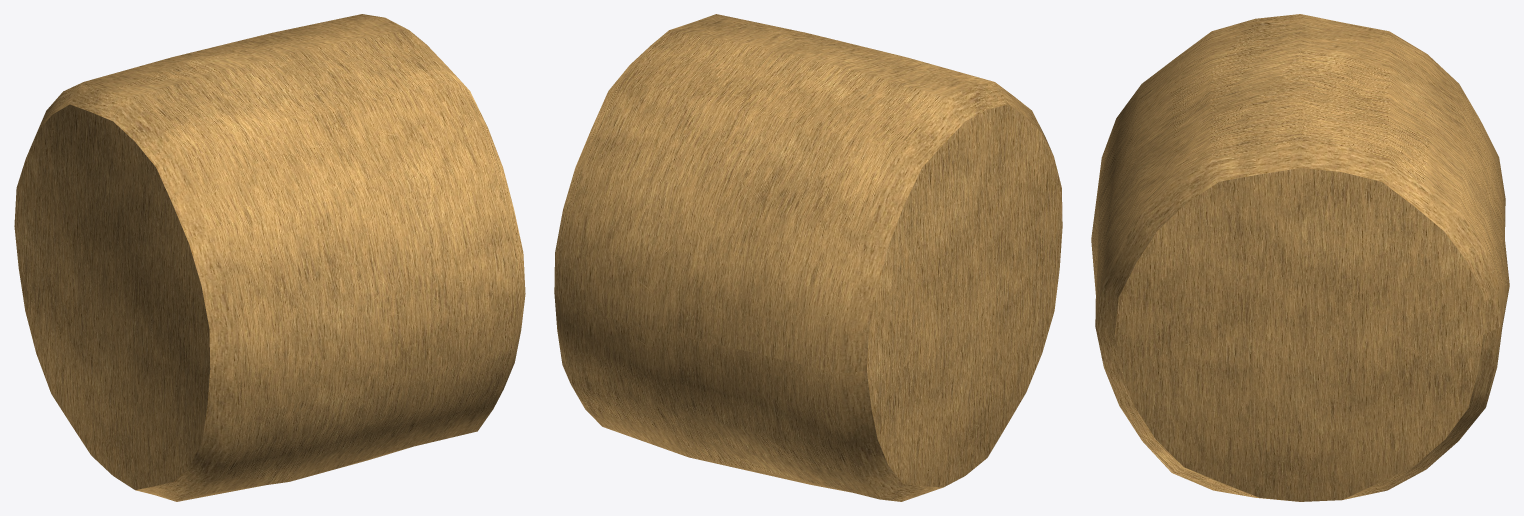
Rendered from hay_bale.glb.
The picture shows the model from 3 angles, left to right: view 1: azimuth 30°, elevation 25°; view 2: azimuth 150°, elevation 25°; view 3: azimuth 270°, elevation 25°; orthographic projection. The views are drawn at different scales.
Visible parts, largest first — view 1: HayBale; view 2: HayBale; view 3: HayBale.
Part boxes in pixels (bbox=[...]): HayBale: bbox=[14, 14, 525, 501]; HayBale: bbox=[554, 14, 1062, 501]; HayBale: bbox=[1091, 14, 1509, 501].
Bounding box in the file's own units: 1.31 × 1.47 × 1.53.
1 material, 1 textured.
